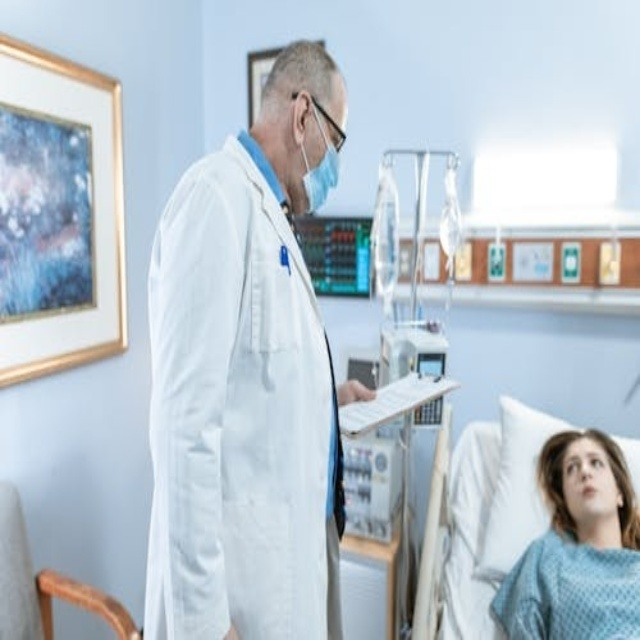Gafas: (291, 90, 347, 156)
Mascara: (297, 101, 340, 217)
Sin_gafas: (561, 438, 607, 475)
Sin_guantes: (339, 377, 377, 406)
Sin_mascara: (576, 480, 602, 505)
